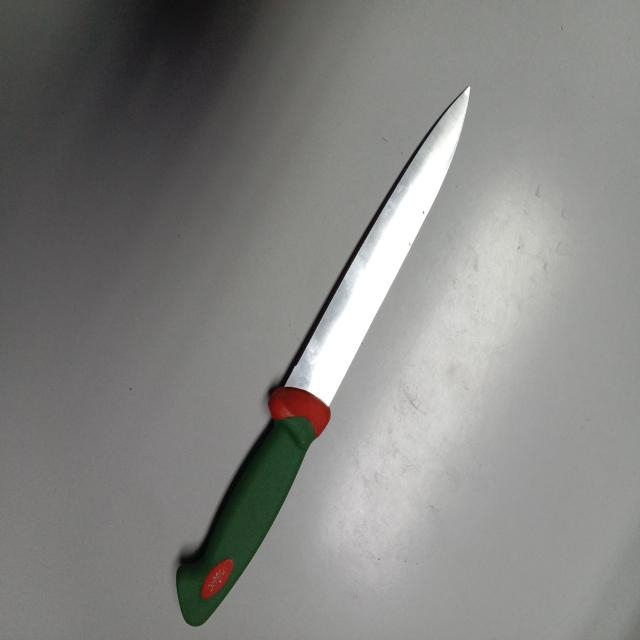Knife: (176, 86, 471, 627)
